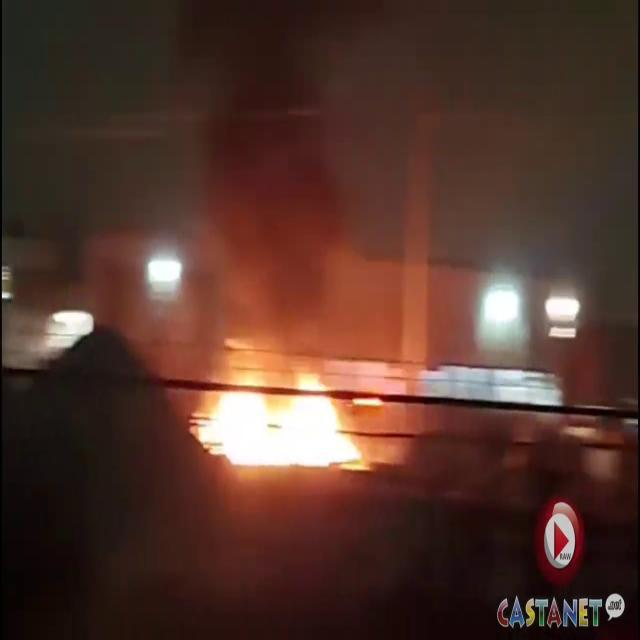Fire: (186, 365, 376, 479)
Smoke: (167, 5, 382, 346)
